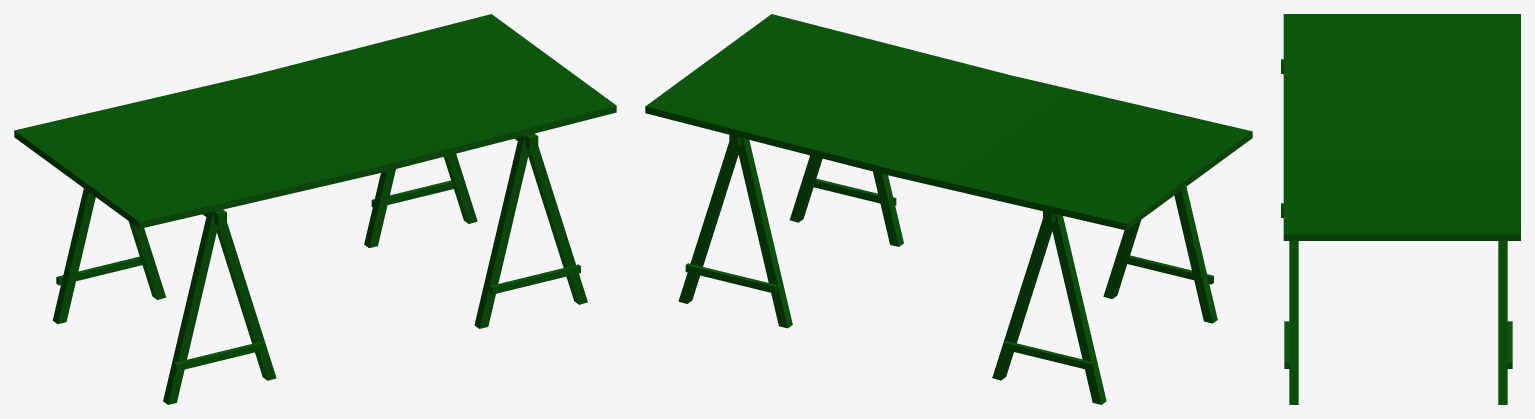
Rendered from Structure05.FBX.
3 renders of one model, left to right at view 1: azimuth 30°, elevation 25°; view 2: azimuth 150°, elevation 25°; view 3: azimuth 270°, elevation 25°, orthographic. The views are drawn at different scales.
Parts seen in each view (by area): view 1: SM_structure05_0; view 2: SM_structure05_0; view 3: SM_structure05_0.
Boxes of the visible parts, x1,y1,x2,y2 form: SM_structure05_0: (14, 14, 616, 404); SM_structure05_0: (645, 14, 1252, 404); SM_structure05_0: (1281, 14, 1520, 404).
Size of the model in its own units: 220 by 101 by 84.98.
